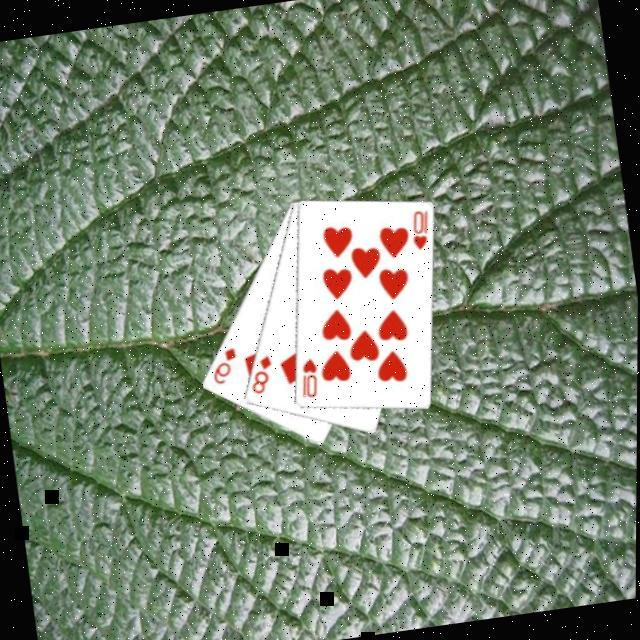10H: (296, 356, 326, 404), (406, 208, 436, 256)
6D: (208, 346, 245, 390)
8D: (247, 353, 280, 399)
